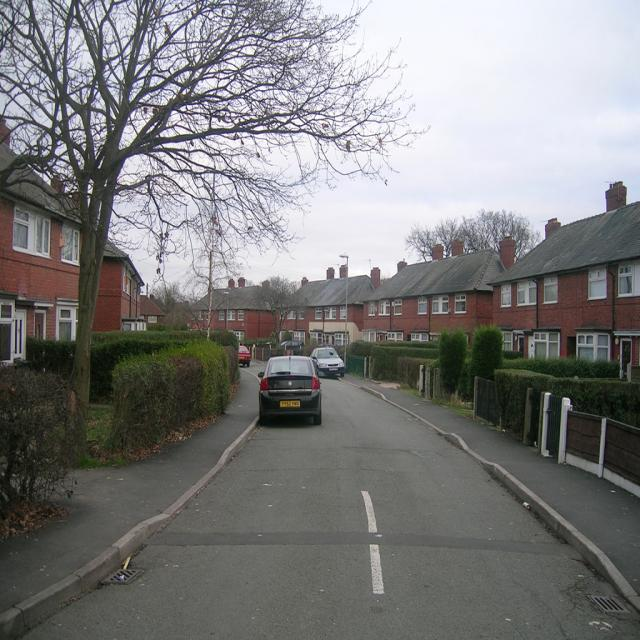car: (252, 350, 323, 423), (238, 339, 252, 364)
